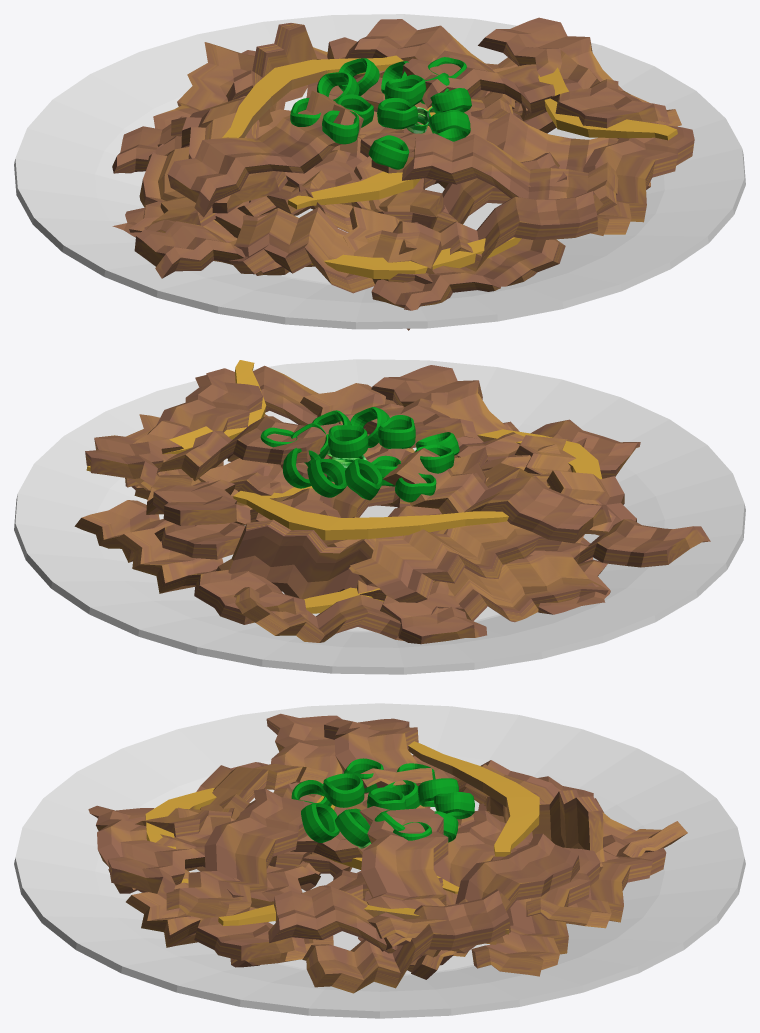
Rendered from grilled_beef_n_vegetable.fbx.
3 views of the same model, one above another, from view 1: azimuth 30°, elevation 25°; view 2: azimuth 150°, elevation 25°; view 3: azimuth 270°, elevation 25° (orthographic).
Parts seen in each view (by area): view 1: Cube.052, 재료접시.001; view 2: Cube.052, 재료접시.001; view 3: Cube.052, 재료접시.001.
Part boxes in pixels (x1=…): Cube.052: x1=112, y1=17, x2=694, y2=330; 재료접시.001: x1=14, y1=14, x2=745, y2=329; Cube.052: x1=74, y1=360, x2=710, y2=644; 재료접시.001: x1=14, y1=359, x2=745, y2=674; Cube.052: x1=88, y1=713, x2=687, y2=993; 재료접시.001: x1=14, y1=703, x2=745, y2=1018.
Size of the model in its own units: 199 by 39.62 by 199.
